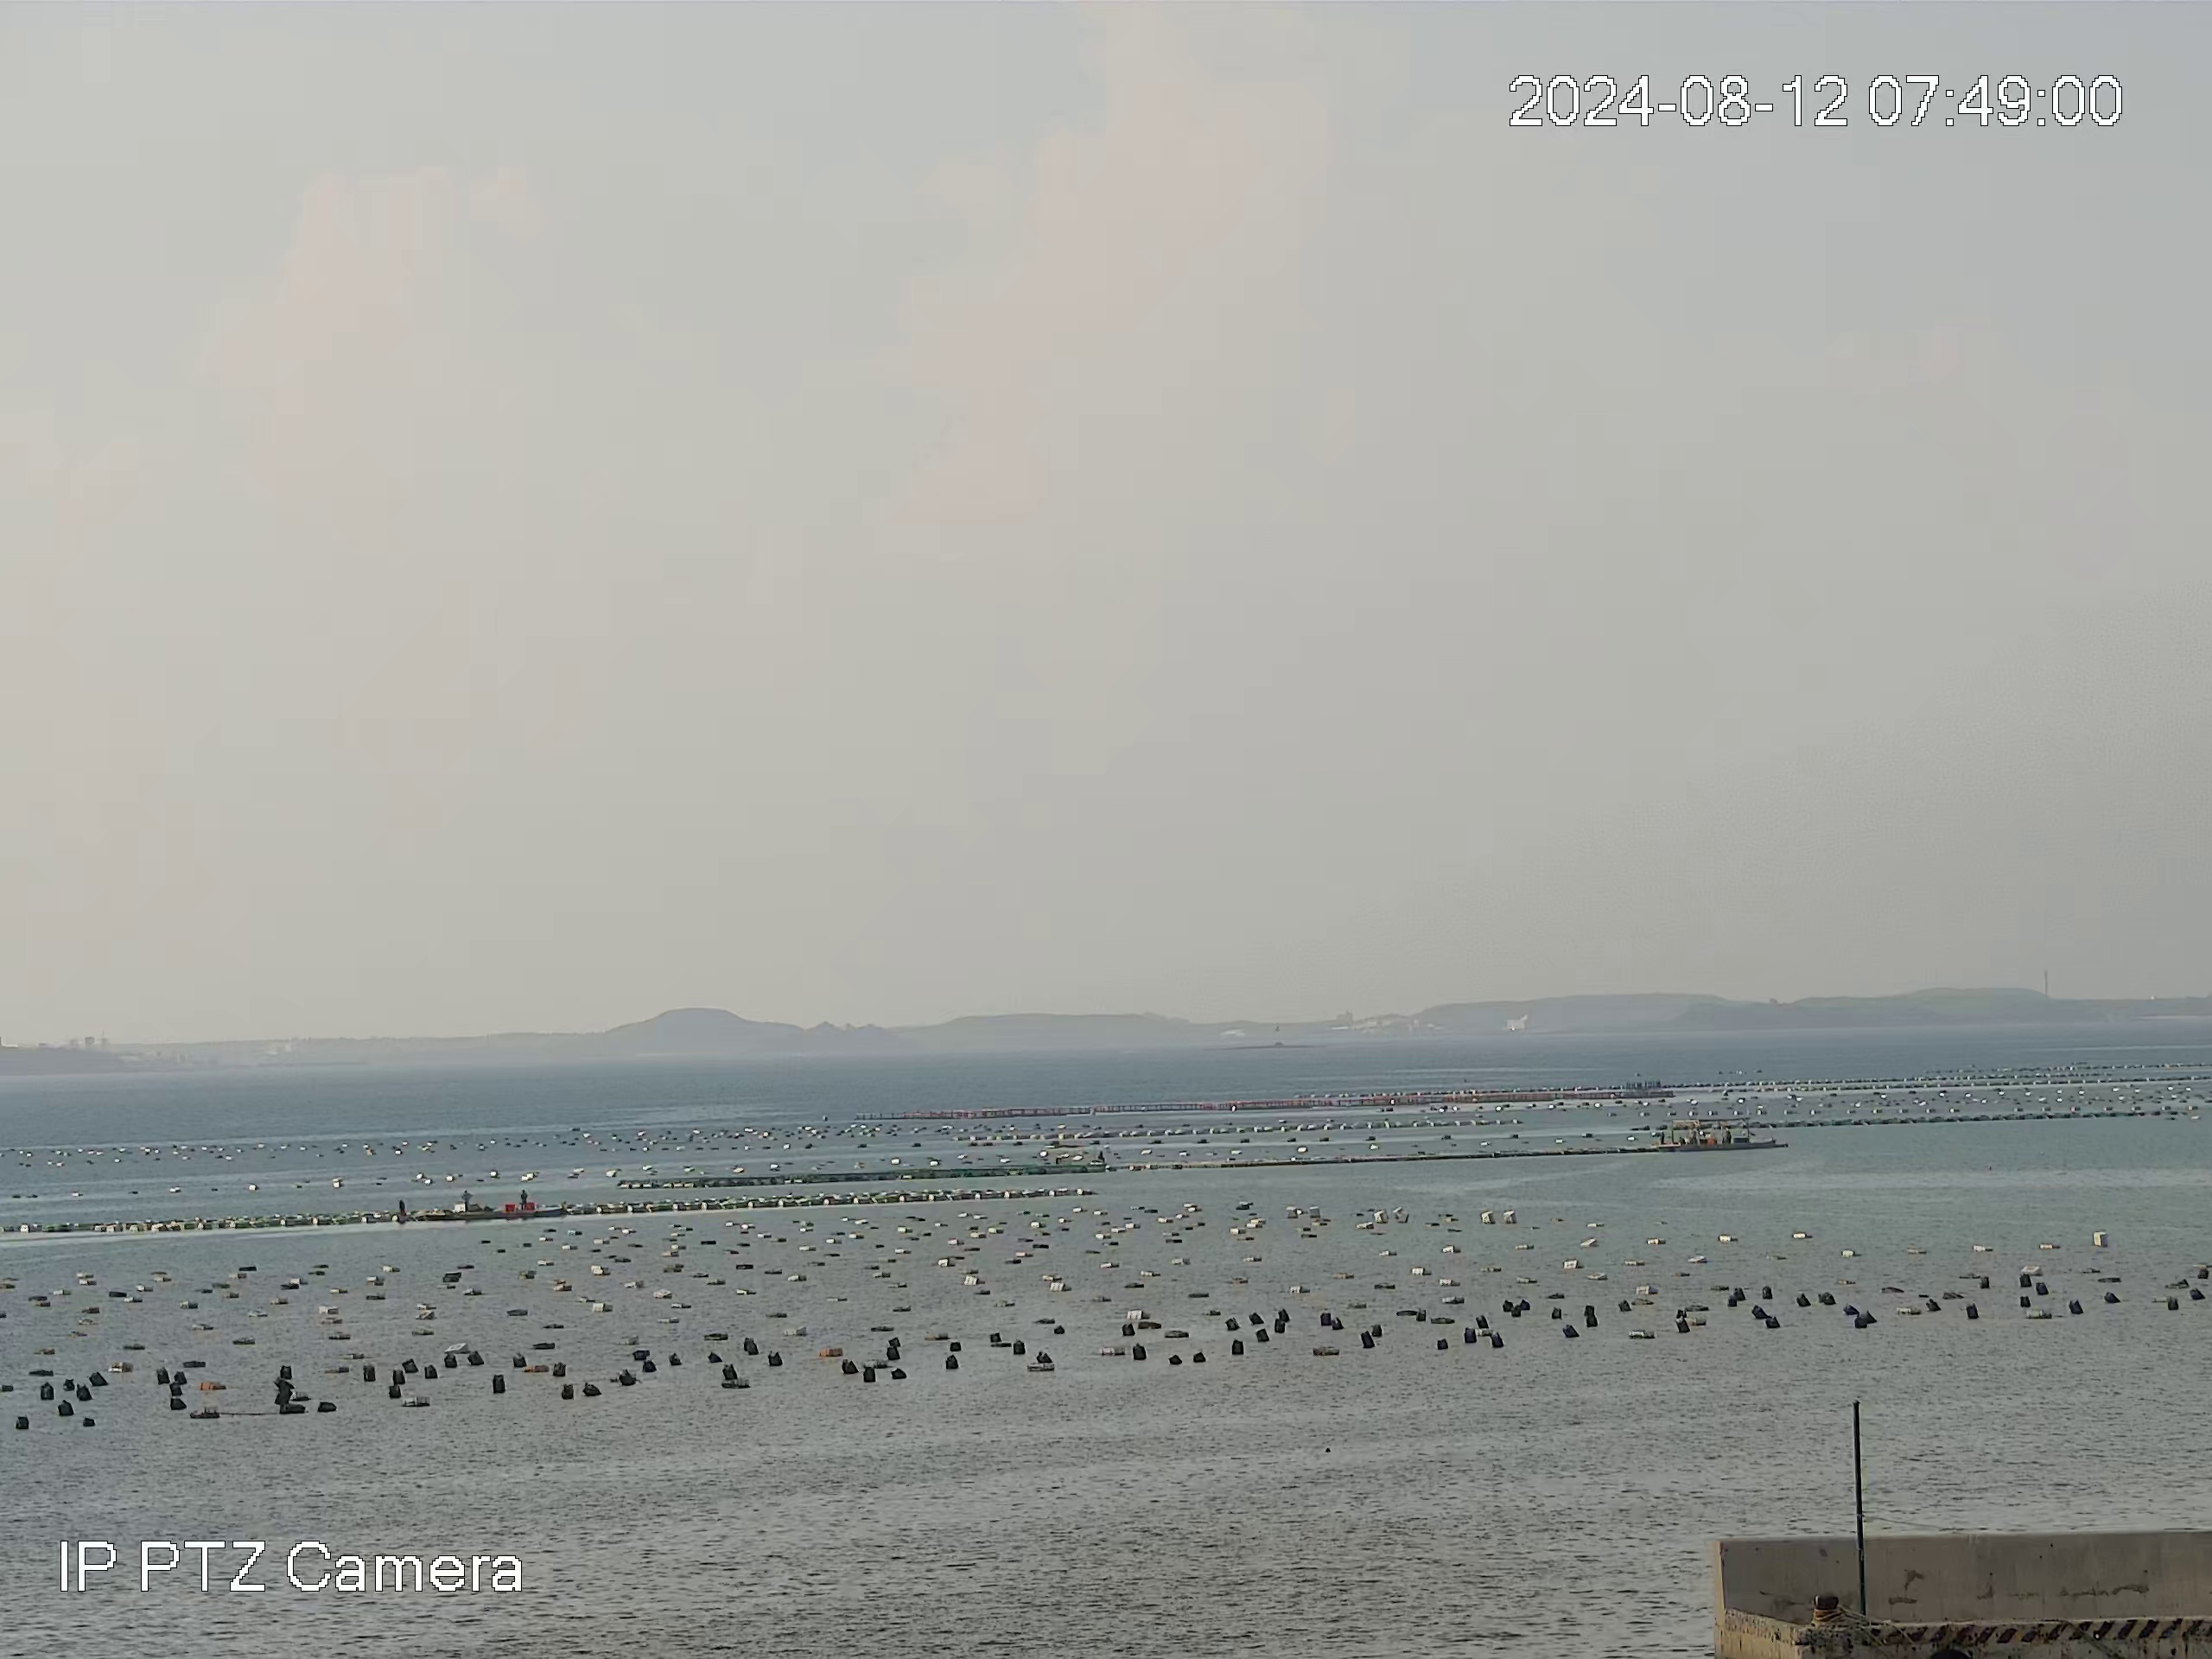boat: (392, 1187, 570, 1222), (1653, 1121, 1777, 1150)
